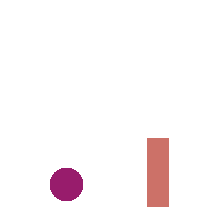circle: (50, 168, 82, 200)
rectangle: (147, 138, 168, 206)
